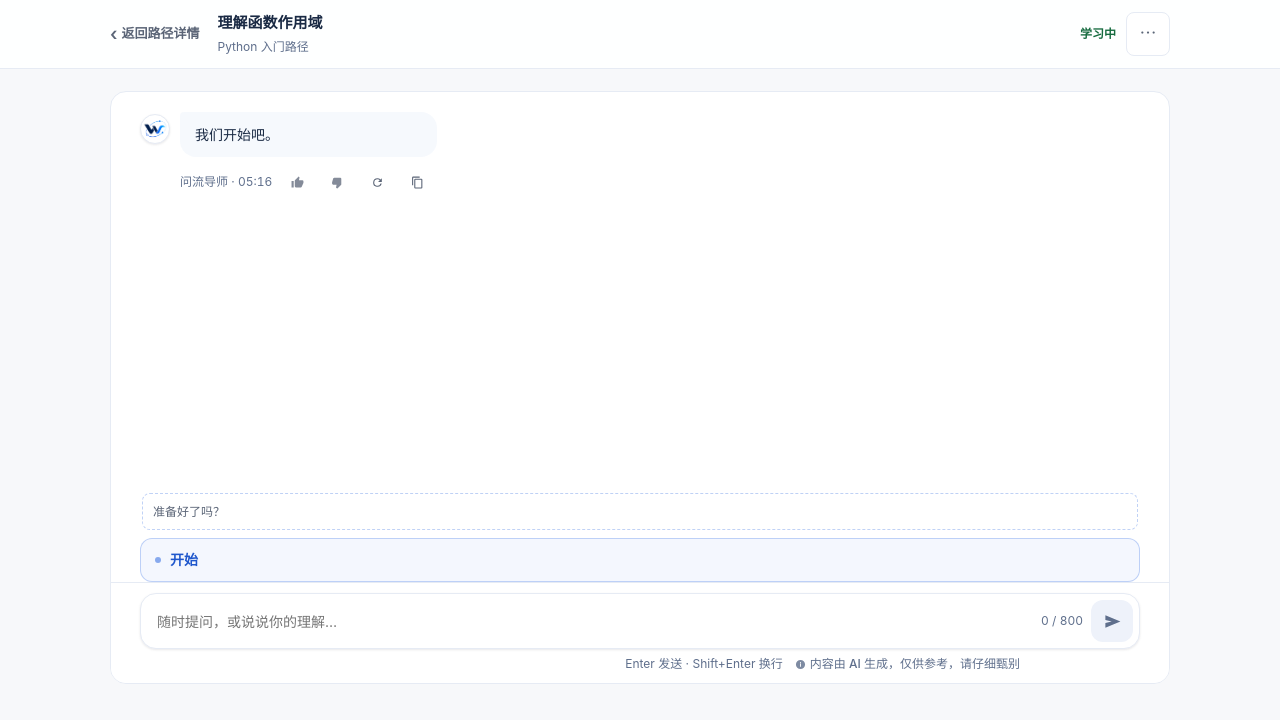
#6 在途消息留痕恢复 › 发送即留痕；未确认送达前不被清除
Type "我的问题" into the text box with class "composer__textarea".
click(595, 621); type("我的问题")  # box [157,604,1033,638]
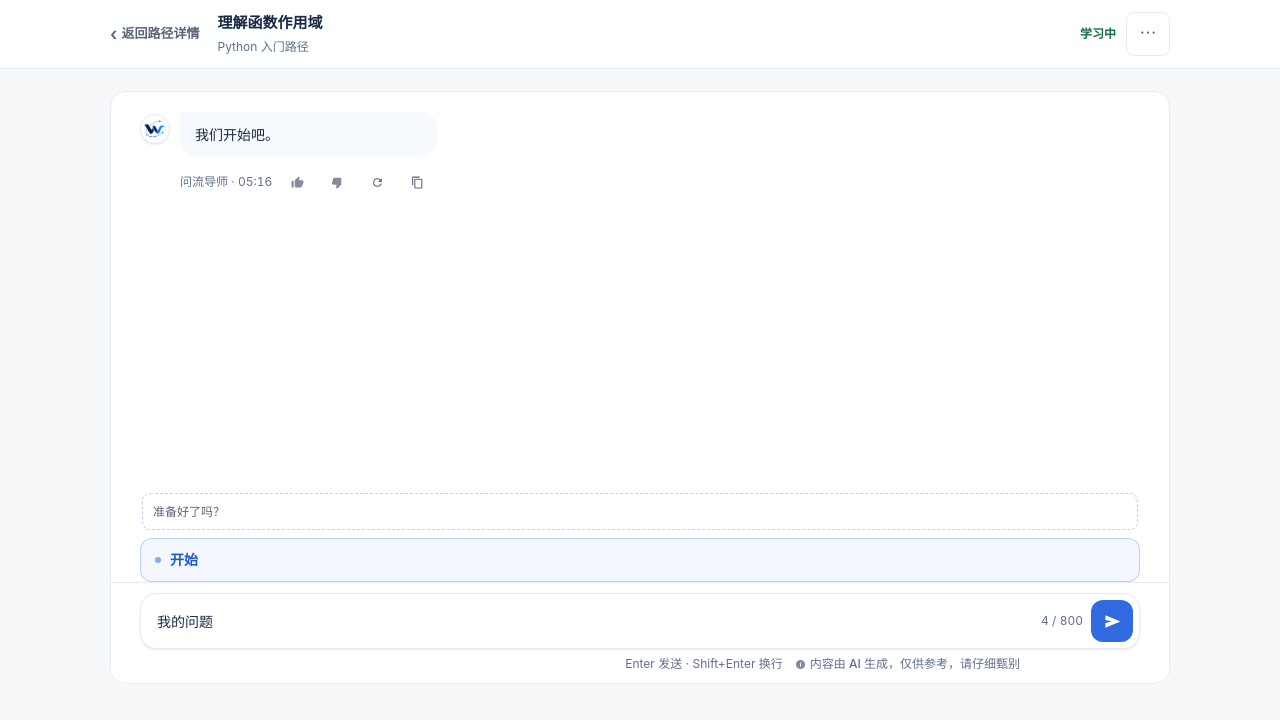
Press Enter in the text box with class "composer__textarea", box [157,604,1033,638]
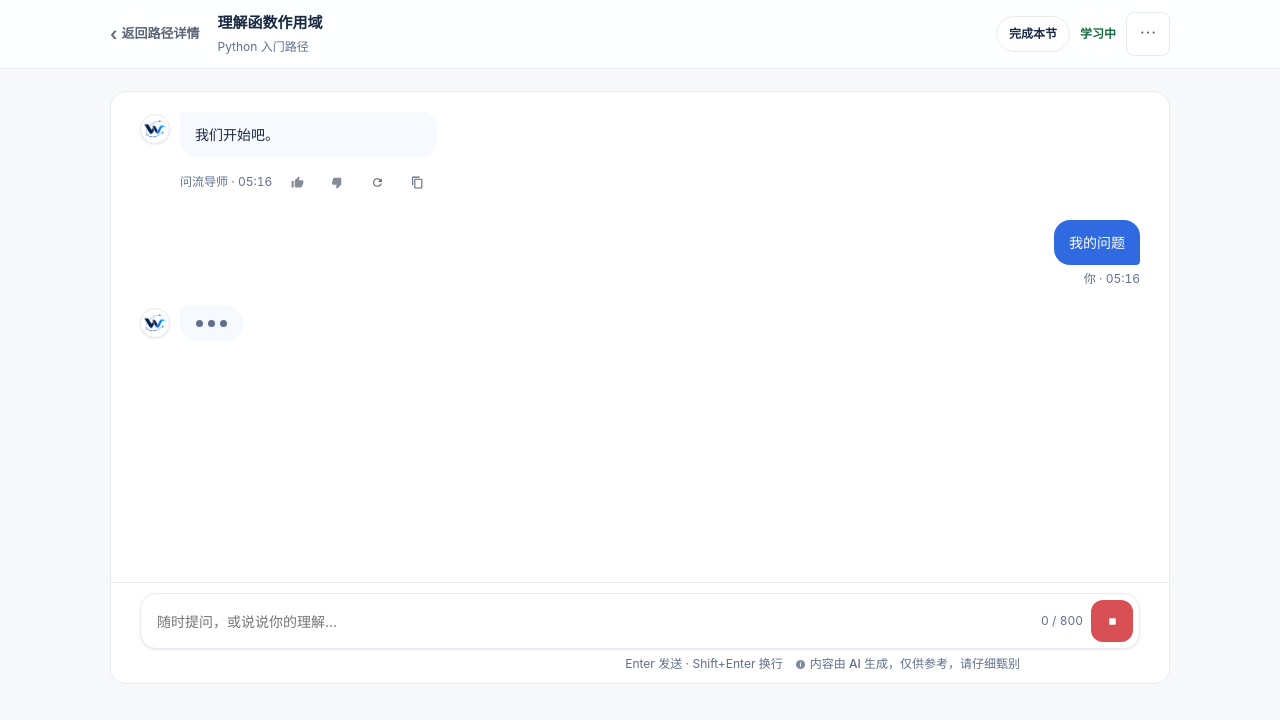
Now the text "我的问题" is shown, box [1054,220,1140,265]
Now the element with class "msg--user" shows "我的问题", box [1069,234,1125,251]
